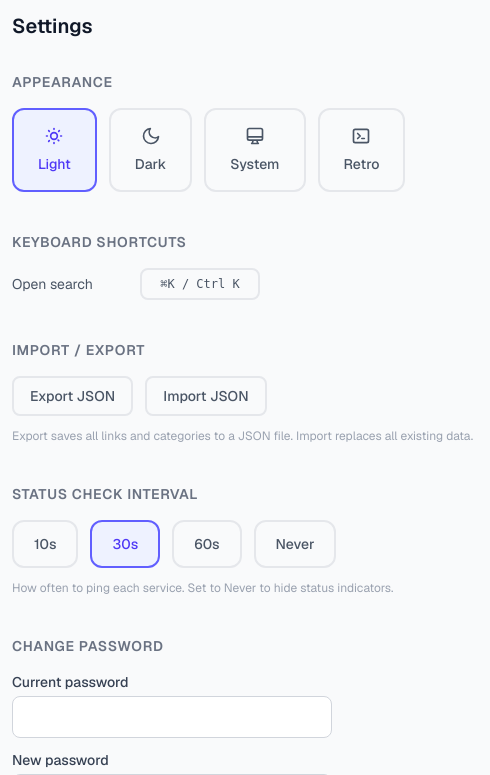
Scenario: settings saves report failure › shows an error and reverts the interval when the save is rejected
The width and height of the screenshot is (490, 775).
Click the button "Never". click: (295,544)
box: x1=254 y1=520 x2=336 y2=568
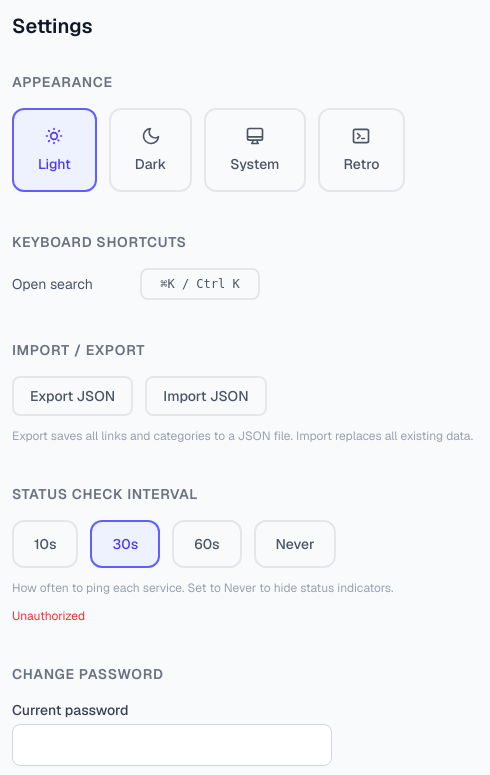
Result: the text "Unauthorized" is shown at x1=12 y1=608 x2=85 y2=624
